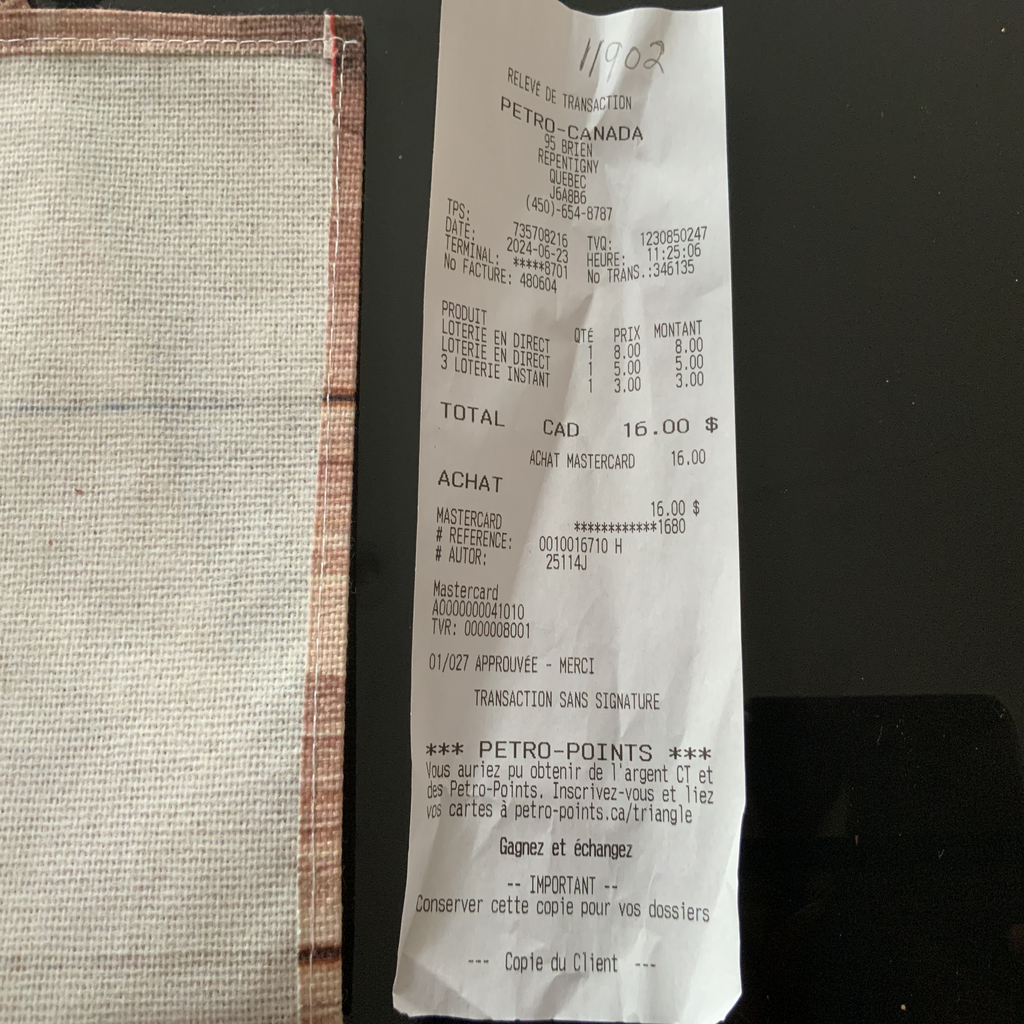recipt: (394, 0, 747, 1009)
